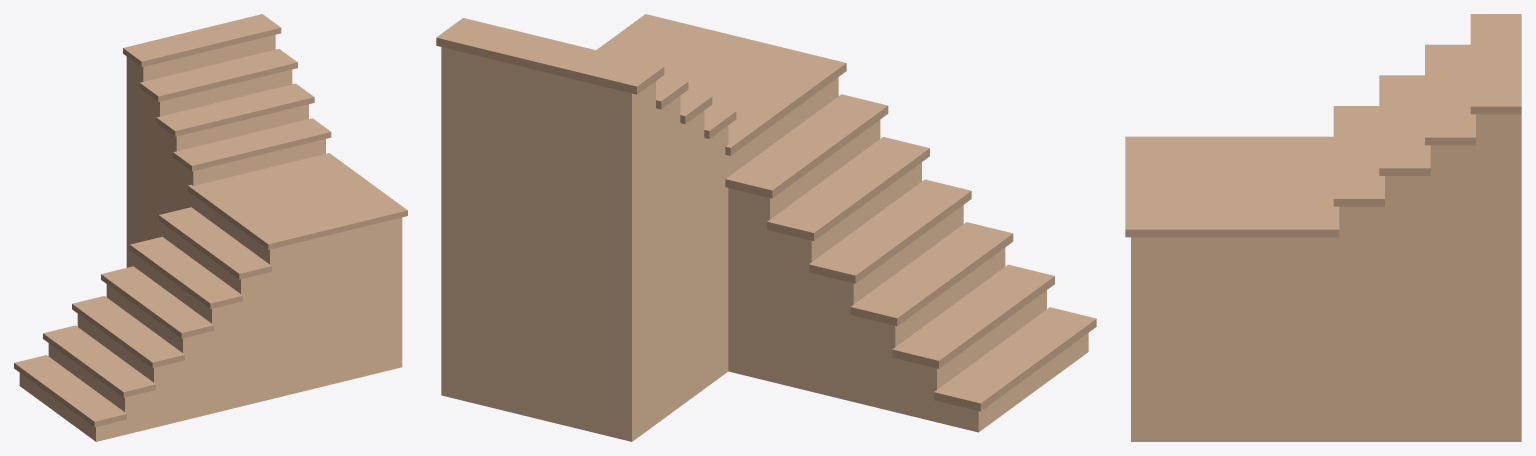
File: stairsCorner.glb
The picture shows the model from 3 angles, left to right: view 1: azimuth 30°, elevation 25°; view 2: azimuth 150°, elevation 25°; view 3: azimuth 270°, elevation 25°; orthographic projection. The views are drawn at different scales.
Visible parts, largest first — view 1: stairsCorner(Clone); view 2: stairsCorner(Clone); view 3: stairsCorner(Clone).
Boxes of the visible parts, bbox=[...] form: stairsCorner(Clone): bbox=[14, 14, 407, 441]; stairsCorner(Clone): bbox=[436, 14, 1096, 441]; stairsCorner(Clone): bbox=[1125, 14, 1521, 441].
Size of the model in its own units: 3.6 by 2.72 by 2.89.
2 materials, 2 textured.
